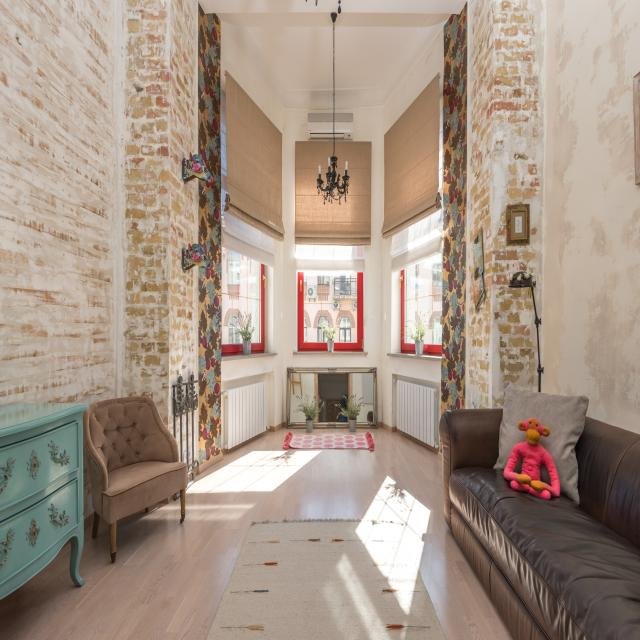floor: (0, 426, 515, 640)
wall: (542, 0, 640, 434), (491, 0, 546, 407), (119, 0, 171, 430), (282, 105, 383, 273), (283, 269, 382, 427), (169, 0, 199, 462), (220, 22, 284, 220), (382, 26, 444, 229), (221, 239, 284, 432), (382, 236, 441, 432), (466, 0, 494, 409), (506, 204, 530, 245)
